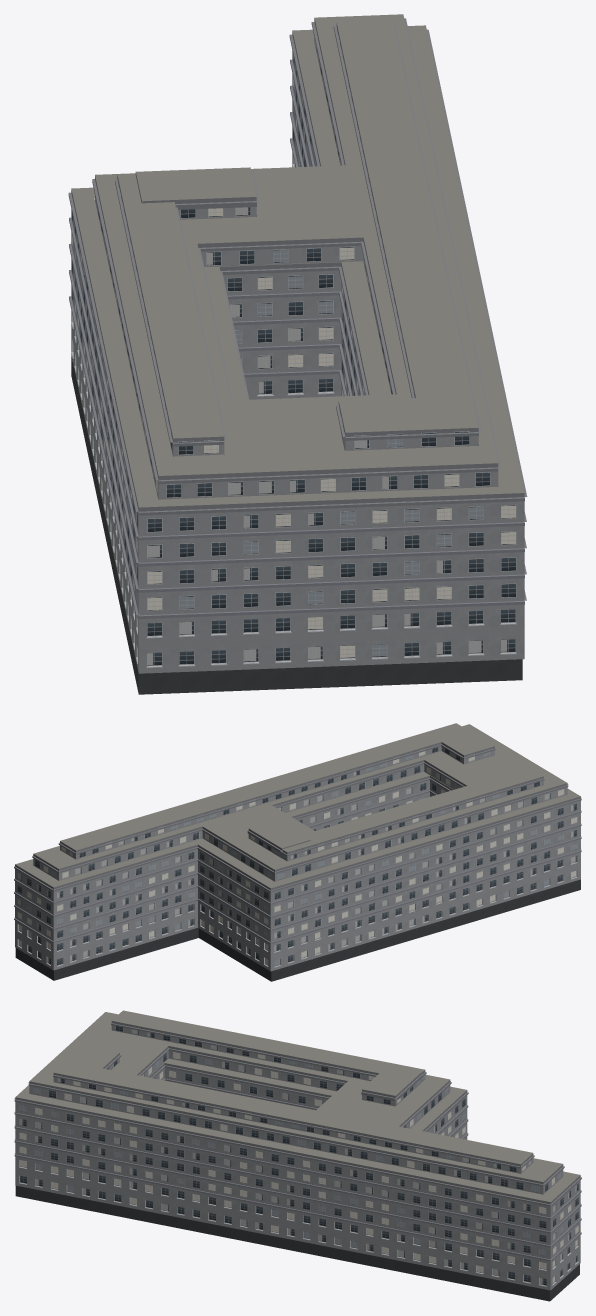
File: z5R2_westpark_office.glb
3 views of the same model, one above another, from view 1: azimuth 30°, elevation 25°; view 2: azimuth 150°, elevation 25°; view 3: azimuth 270°, elevation 25° (orthographic). The views are drawn at different scales.
Visible parts, largest first — view 1: z5R2_westpark_office; view 2: z5R2_westpark_office; view 3: z5R2_westpark_office.
Part boxes in pixels (x1,y1,x2,y2): z5R2_westpark_office: (68, 14, 527, 694); z5R2_westpark_office: (14, 723, 581, 981); z5R2_westpark_office: (14, 1010, 581, 1301).
Size of the model in its own units: 107 by 32.96 by 139.
3 materials, 3 textured.
